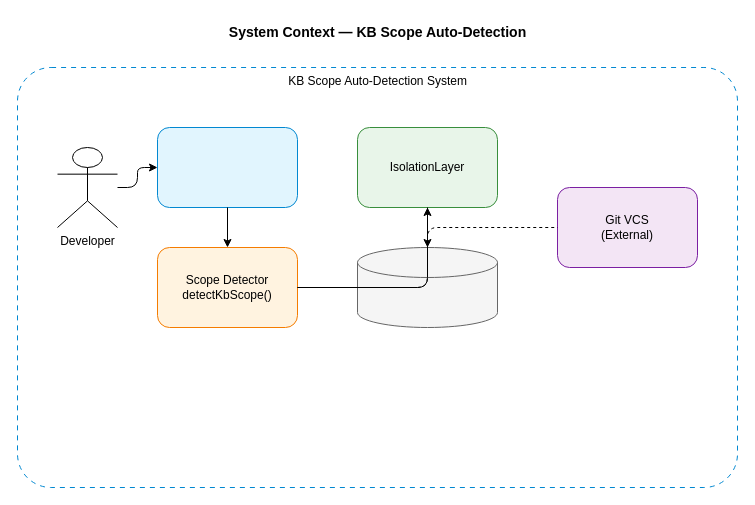
Image size: 755x505. Some labels were removed from this diagram. The shapes that lost their labels are listed below. From the top down, each one's box as (x1, y1, x2, y2) in pixels, then its label:
(156, 126, 298, 208): Extension Services
(356, 246, 498, 328): KB Store (WORKSPACE/PROJECT)
